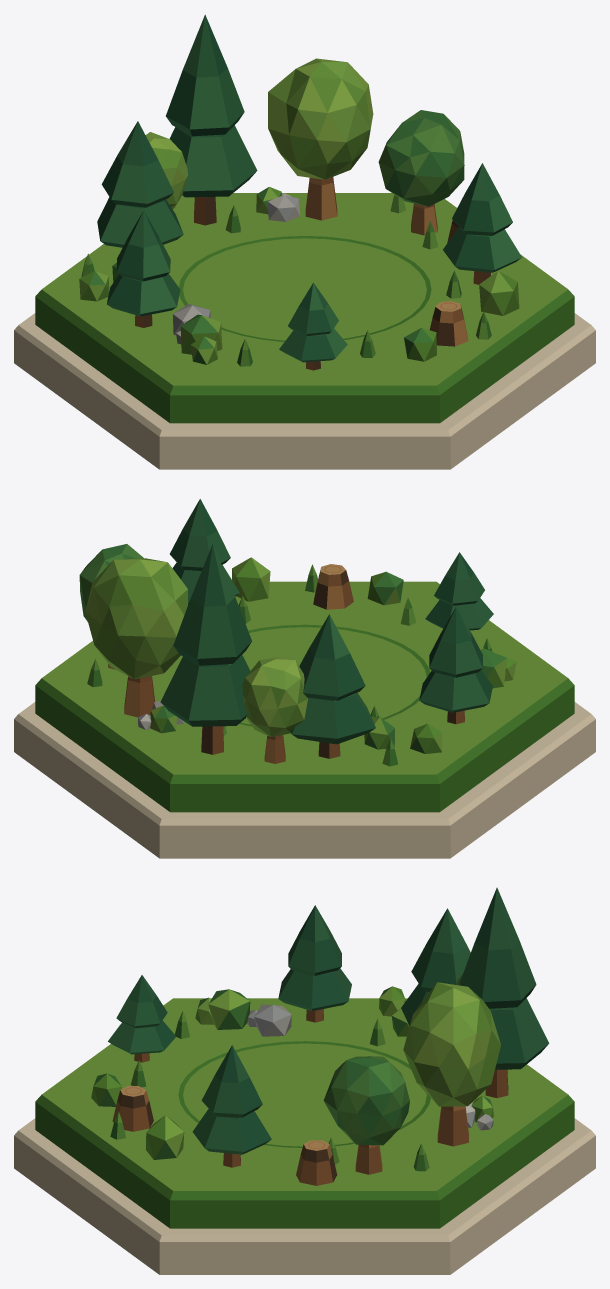
Rendered from hex_forest.glb.
3 renders of one model, top to bottom at view 1: azimuth 30°, elevation 25°; view 2: azimuth 150°, elevation 25°; view 3: azimuth 270°, elevation 25°, orthographic.
Parts seen in each view (by area): view 1: hex_forest; view 2: hex_forest; view 3: hex_forest.
Part boxes in pixels (<box>): hex_forest: <box>14,14,595,469</box>; hex_forest: <box>14,499,595,858</box>; hex_forest: <box>14,887,595,1274</box>.
Size of the model in its own units: 1.73 by 1.06 by 2.
